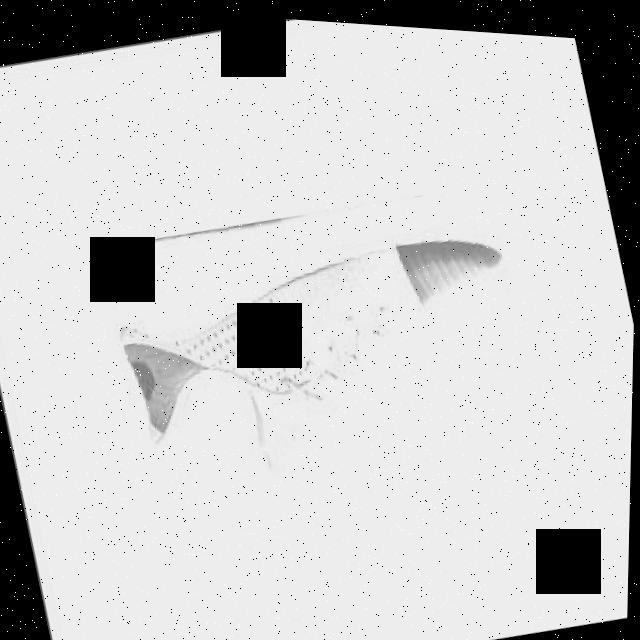shoe: (78, 154, 553, 523)
